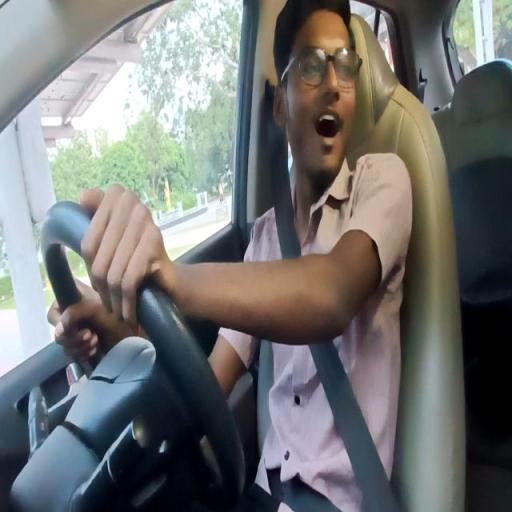yawns: (272, 0, 362, 178)
